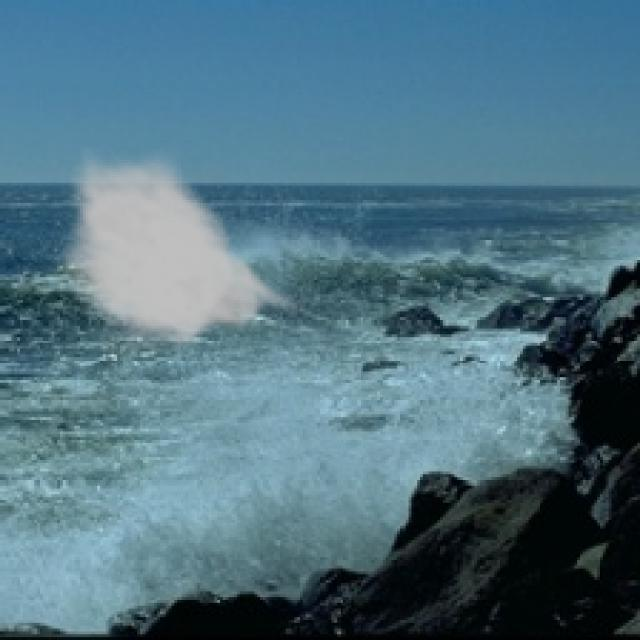Smoke: (57, 146, 312, 354)
